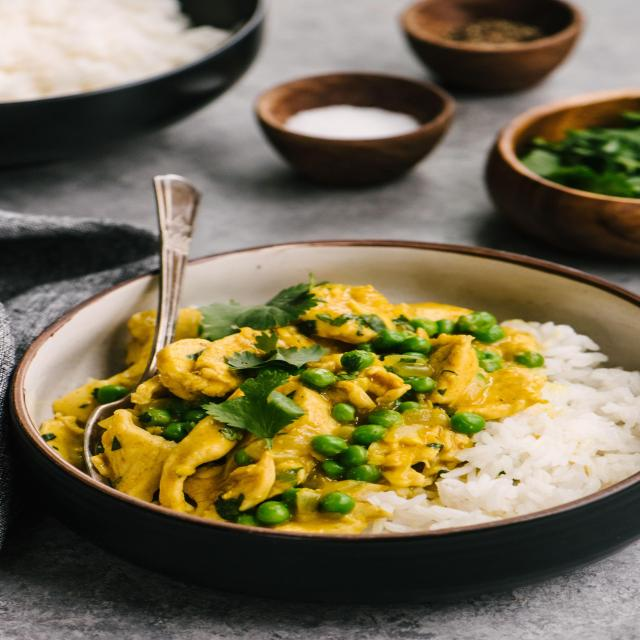chicken: (91, 264, 458, 528)
rice: (498, 332, 640, 530)
